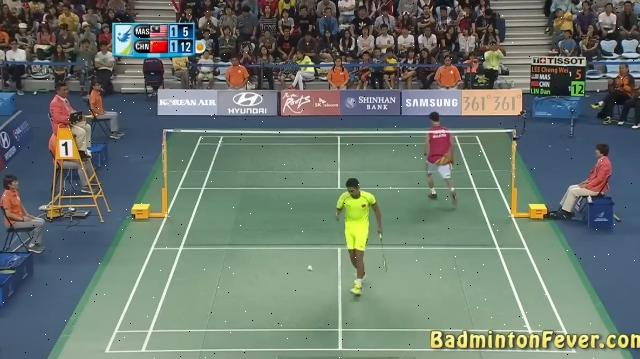Shuttlecock: (304, 264, 316, 274)
